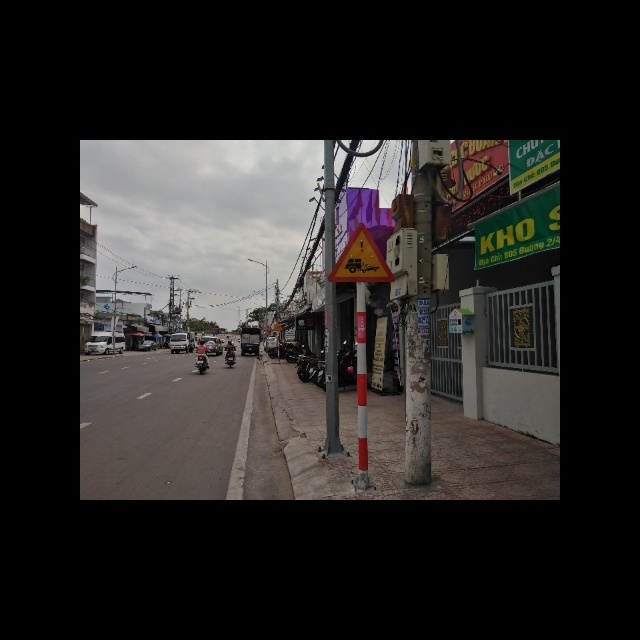Đoạn đường hay xảy ra tai nạn: (327, 224, 394, 282)
Đường đôi: (272, 320, 284, 332)
